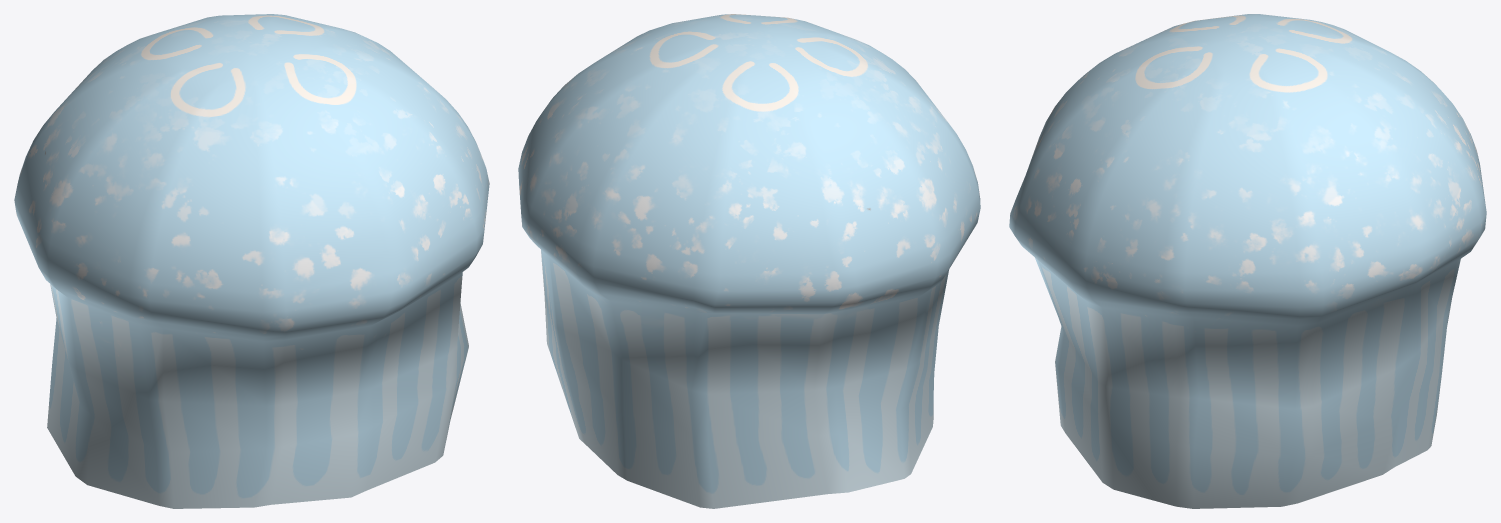
File: moonJelly00.fbx
3 renders of one model, left to right at view 1: azimuth 30°, elevation 25°; view 2: azimuth 150°, elevation 25°; view 3: azimuth 270°, elevation 25°, orthographic.
Visible parts, largest first — view 1: moonJelly_final; view 2: moonJelly_final; view 3: moonJelly_final.
Part boxes in pixels (bbox=[...]): moonJelly_final: bbox=[14, 14, 489, 508]; moonJelly_final: bbox=[518, 14, 980, 508]; moonJelly_final: bbox=[1009, 14, 1486, 508].
Bounding box in the file's own units: 182 × 171 × 185.
Materials: 1 (1 with a texture image).
